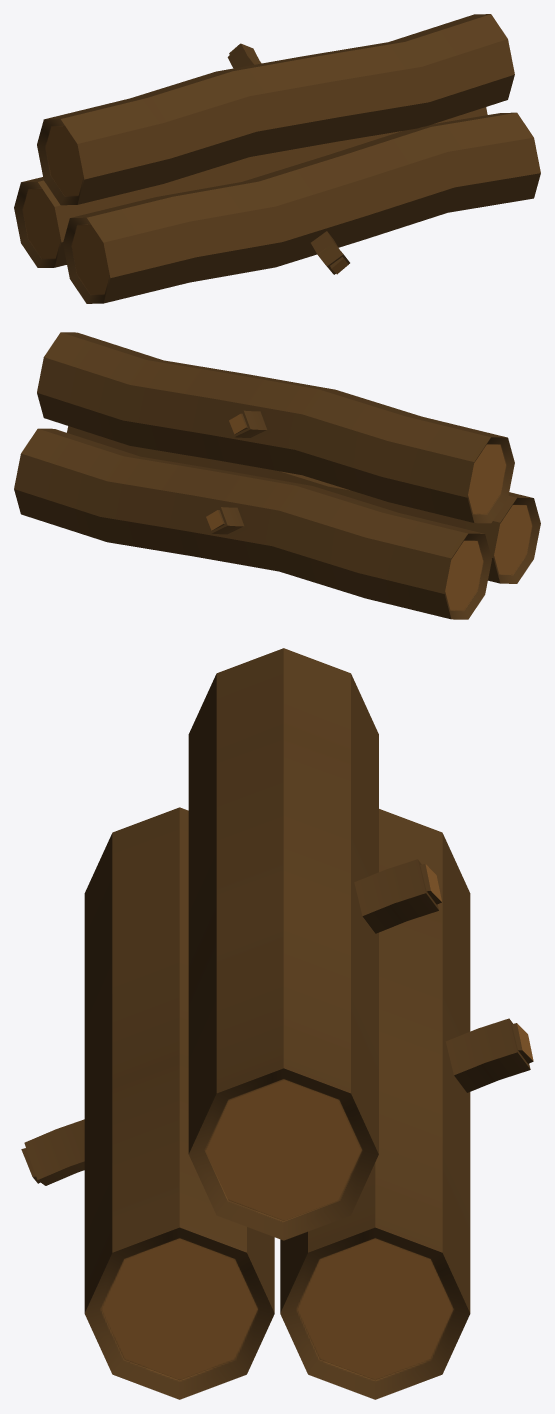
Rendered from kayu.fbx.
3 views of the same model, one above another, from view 1: azimuth 30°, elevation 25°; view 2: azimuth 150°, elevation 25°; view 3: azimuth 270°, elevation 25° (orthographic). The views are drawn at different scales.
Visible parts, largest first — view 1: wooden log; view 2: wooden log; view 3: wooden log.
Part boxes in pixels (x1,y1,x2,y2): wooden log: (14, 14, 540, 303); wooden log: (14, 332, 540, 619); wooden log: (21, 648, 533, 1399).
Size of the model in its own units: 8786 by 3479 by 4528.
